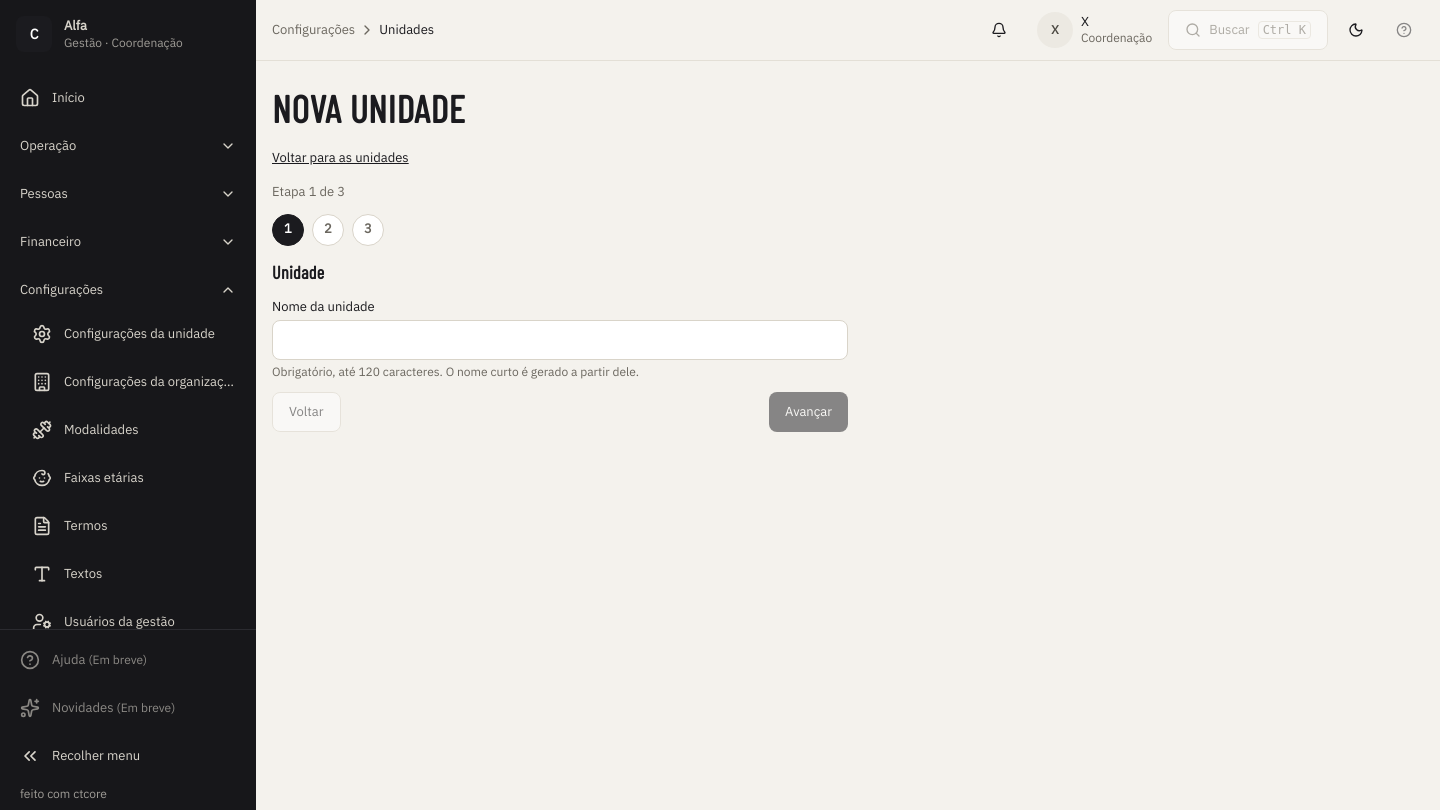
it: NewUnitPage › CA13: 403 do servidor mostra o estado sem permissão
Type "Nova" into the field labelled "Nome da unidade" at (560, 340), box [272,320,848,360]
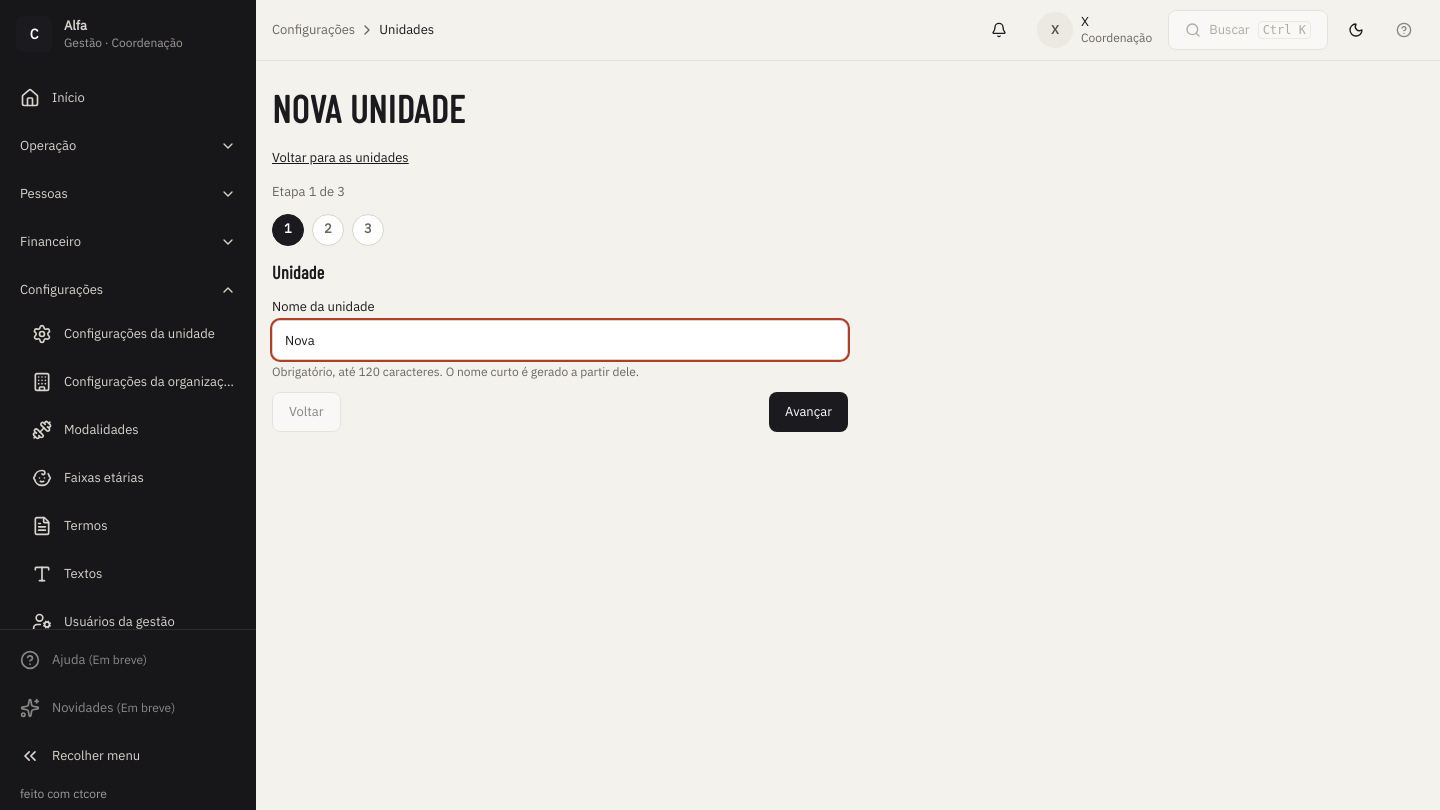
Click the button "Avançar" at (809, 412), box [769,392,848,432]
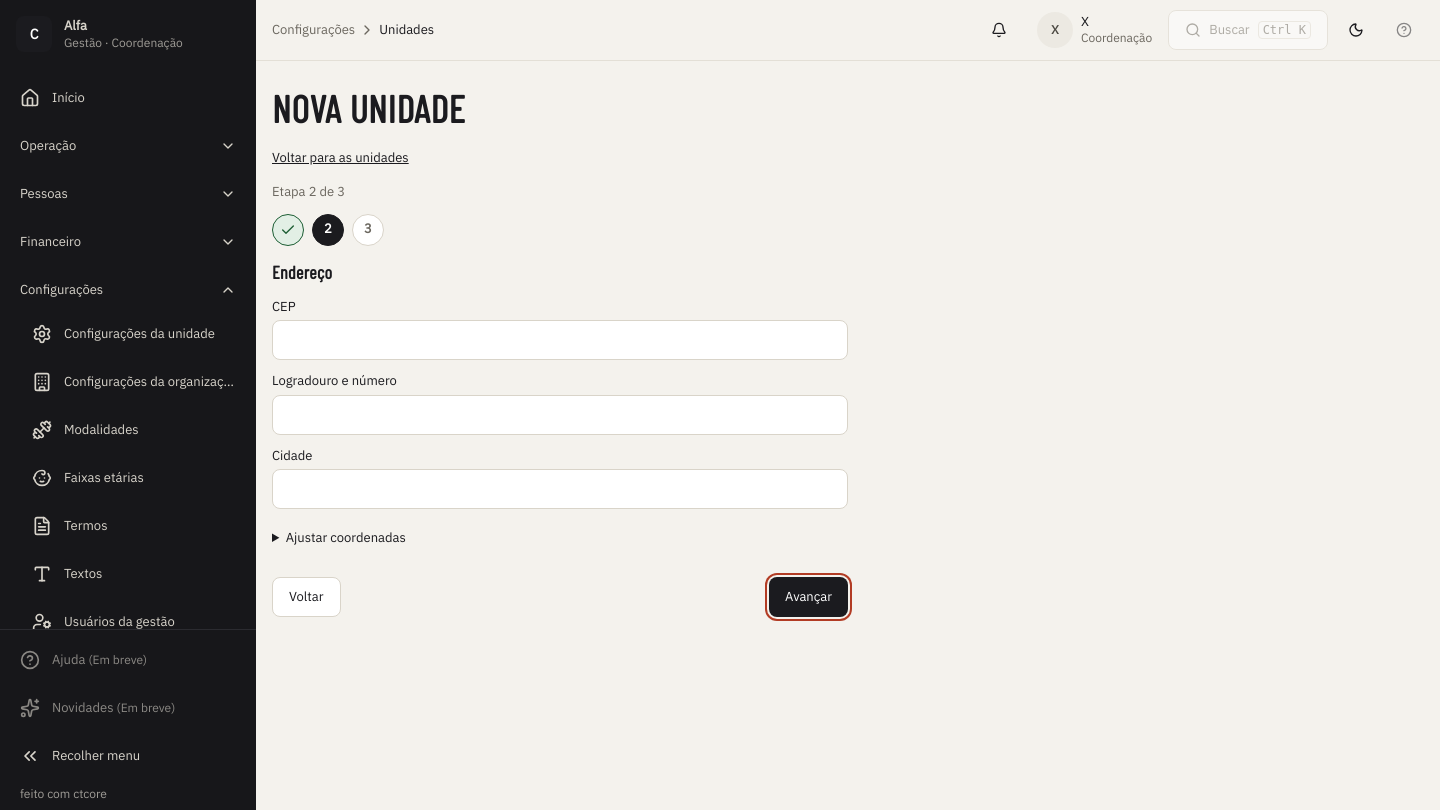
Click the button "Avançar" at (809, 597), box [769,577,848,617]
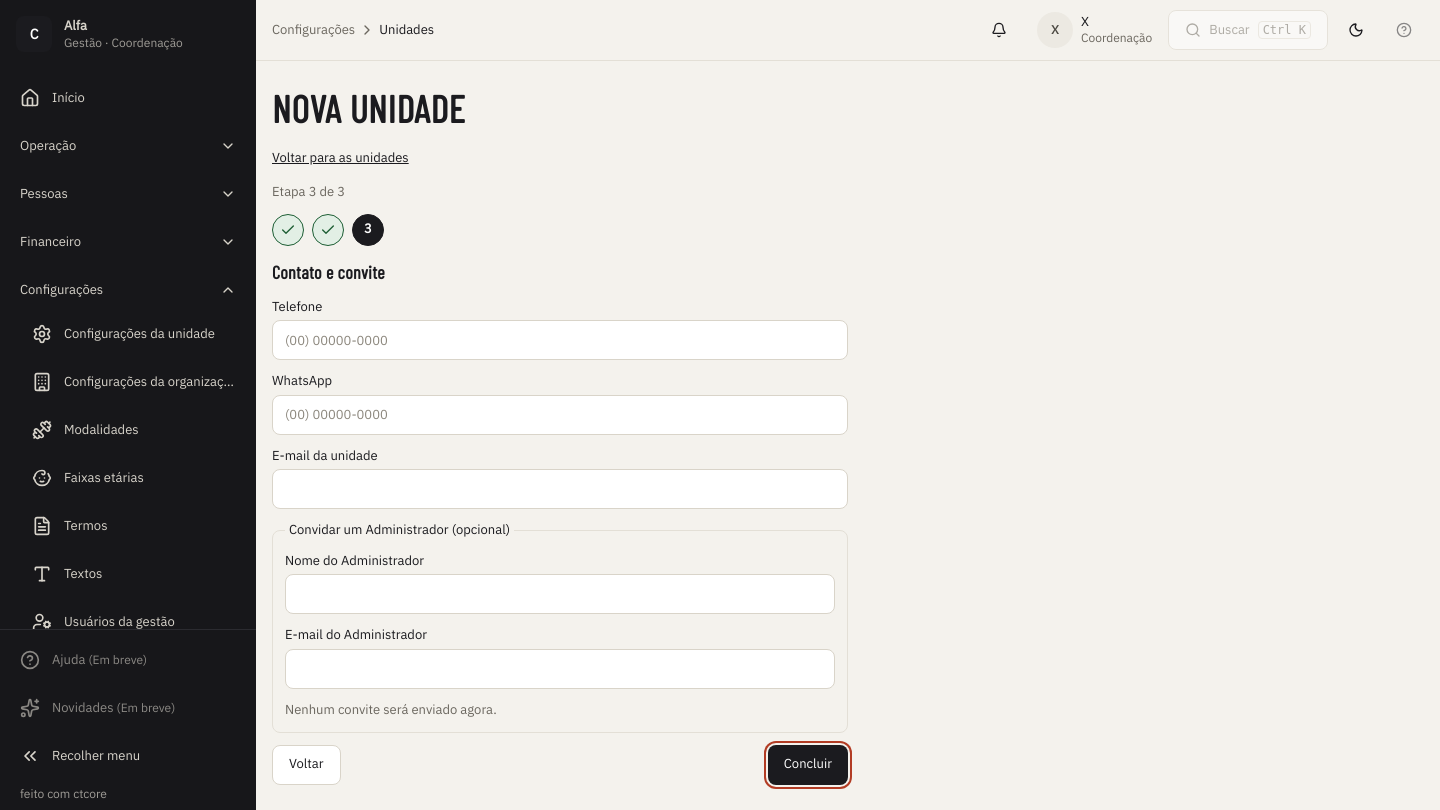
Click the button "Concluir" at (808, 765), box [768,745,848,785]
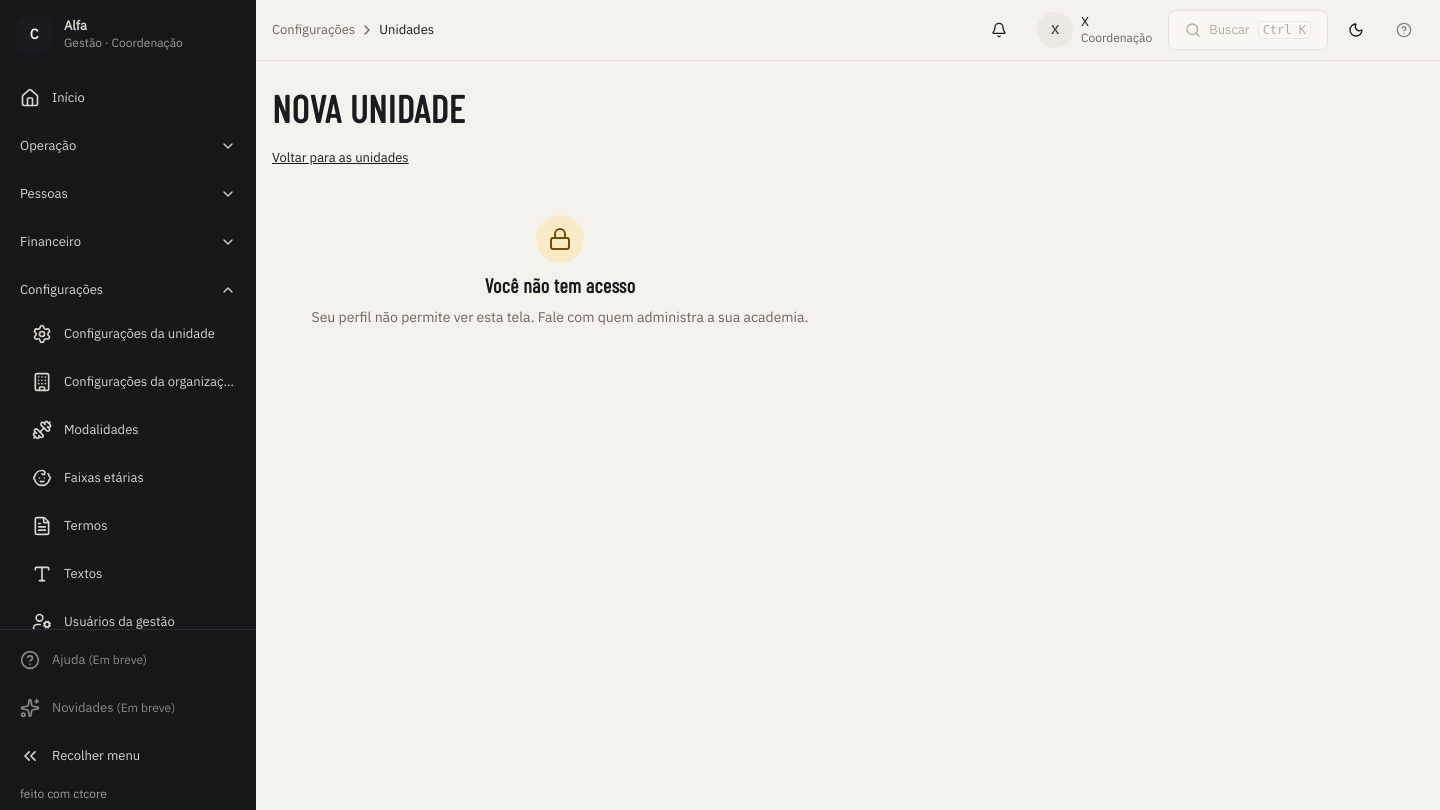
Result: the heading "Você não tem acesso" is shown at [485,271,635,299]
